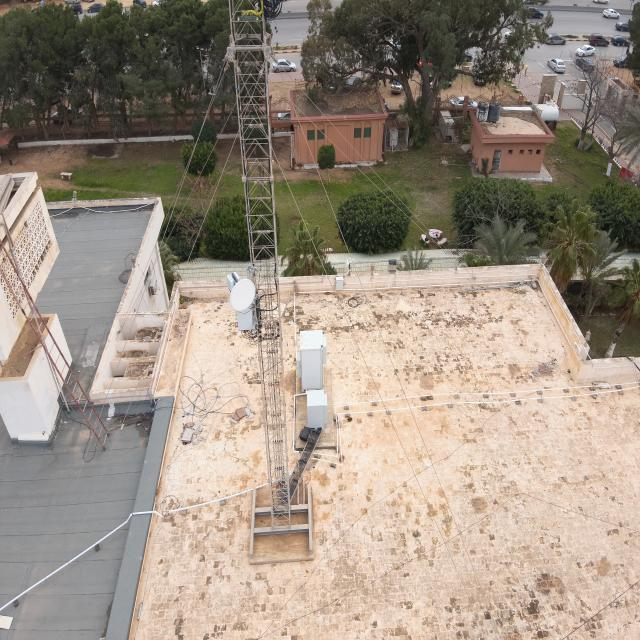microware-dish: (225, 270, 256, 312)
power-box: (236, 292, 255, 330)
